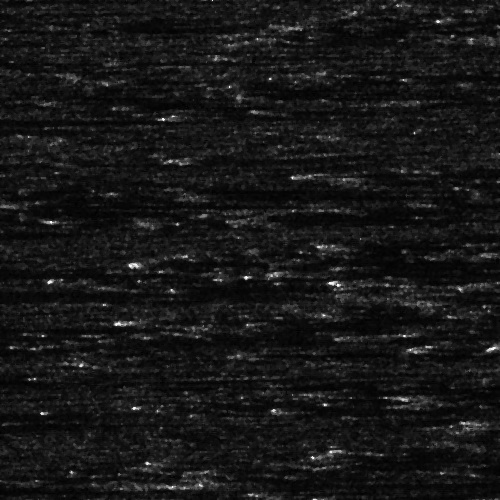object: (125, 475, 282, 488), (396, 274, 500, 291), (319, 330, 402, 337), (0, 198, 50, 209), (444, 491, 500, 500)
shadow: (204, 475, 500, 488), (9, 198, 243, 209), (0, 265, 86, 280), (0, 284, 67, 303), (204, 193, 365, 198), (0, 115, 84, 124), (361, 330, 444, 337), (480, 274, 500, 291)
